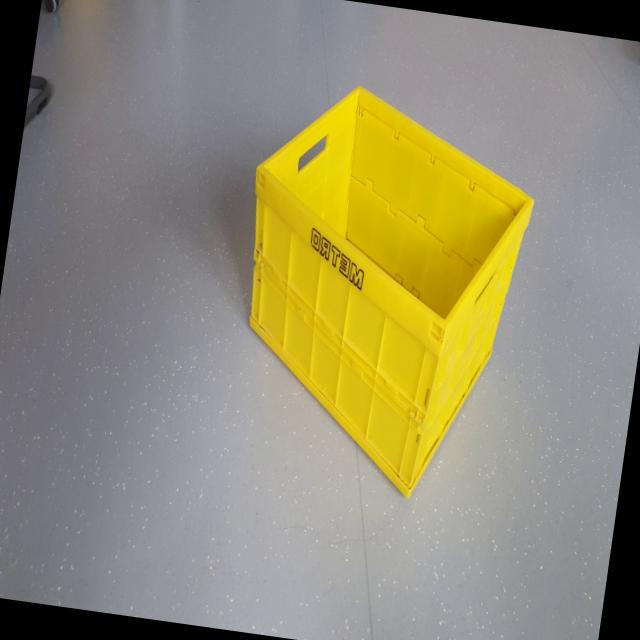box: (204, 65, 560, 546)
